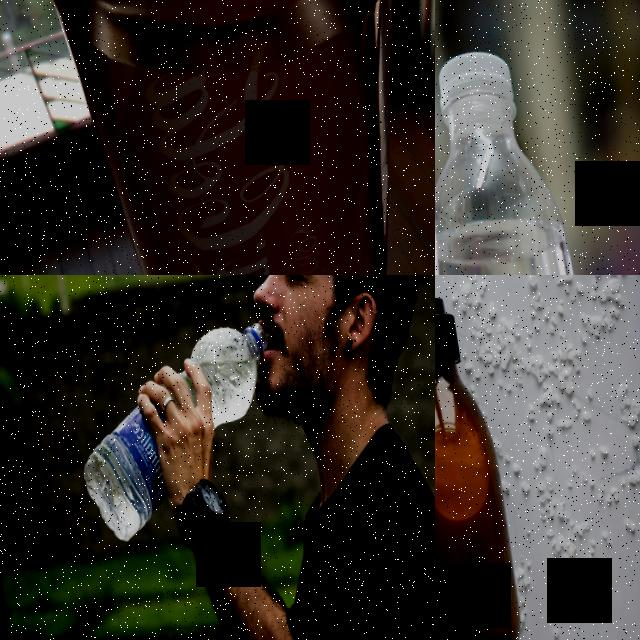bottle: (65, 313, 302, 544), (435, 33, 619, 275)
can: (27, 0, 435, 275)
